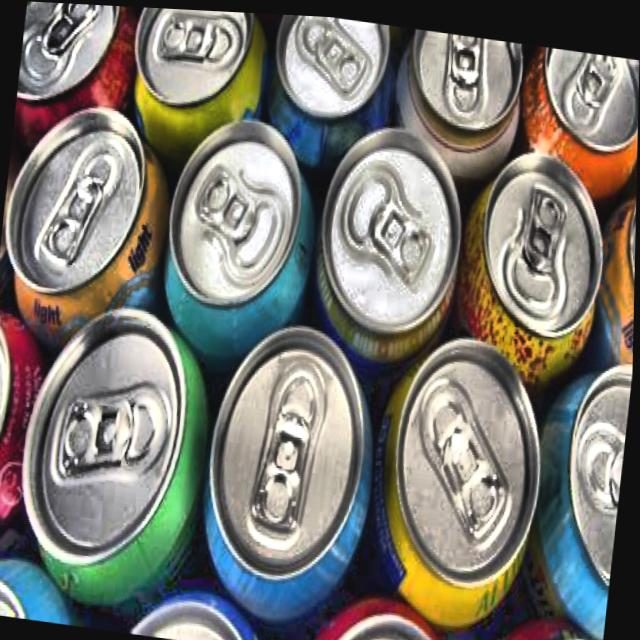Cans: (369, 302, 593, 640), (0, 285, 221, 587), (194, 289, 395, 613), (295, 95, 479, 396), (0, 81, 189, 339), (153, 87, 325, 365), (452, 127, 621, 389), (109, 5, 283, 188), (371, 20, 536, 210), (243, 10, 390, 176), (12, 1, 134, 150), (512, 37, 640, 175)
